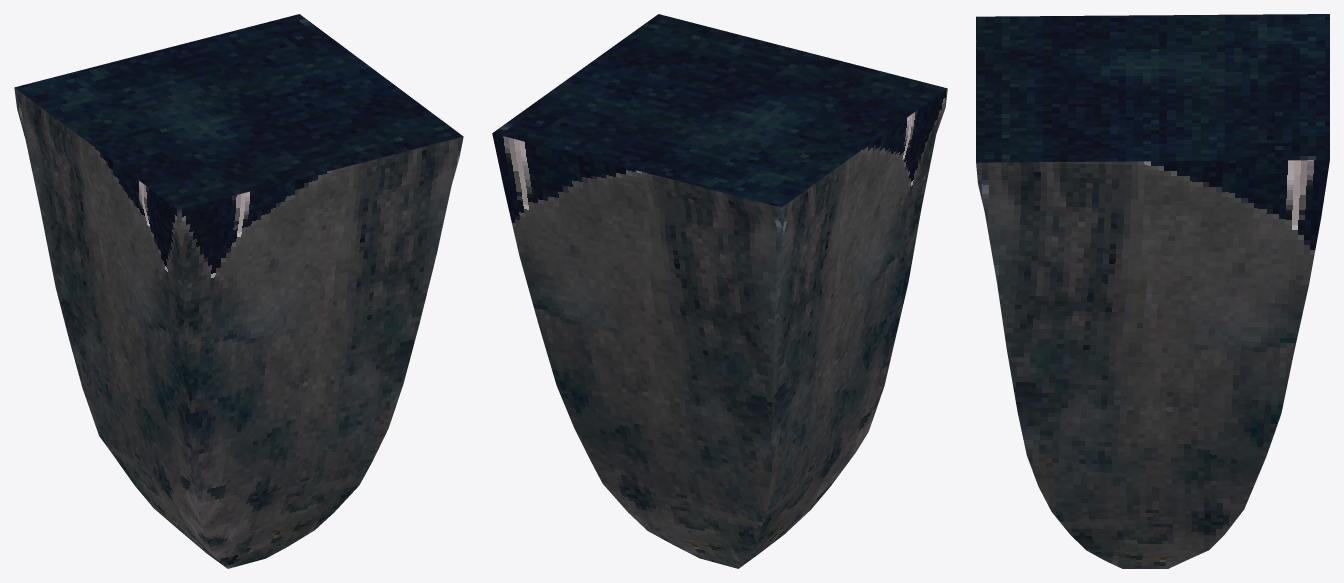
3 views of the same model, side by side, from view 1: azimuth 30°, elevation 25°; view 2: azimuth 150°, elevation 25°; view 3: azimuth 270°, elevation 25° (orthographic). The views are drawn at different scales.
Parts seen in each view (by area): view 1: SPLICE_1; view 2: SPLICE_1; view 3: SPLICE_1.
Part boxes in pixels (x1,y1,x2,y2): SPLICE_1: (14, 14, 463, 568); SPLICE_1: (492, 14, 947, 568); SPLICE_1: (976, 14, 1329, 568).
Size of the model in its own units: 0.9681 by 1.45 by 0.9646.
1 material, 1 textured.
